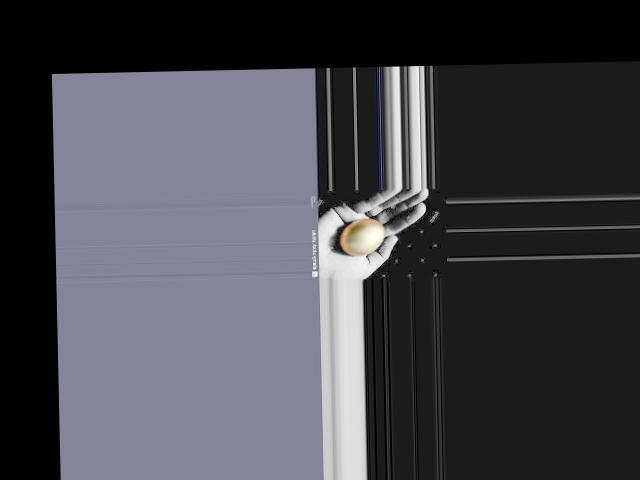egg: (340, 217, 385, 255)
